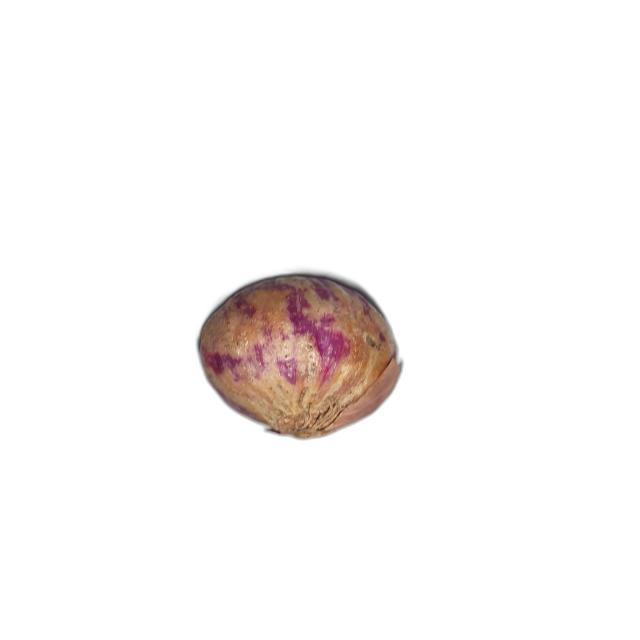onion: (199, 274, 402, 440)
